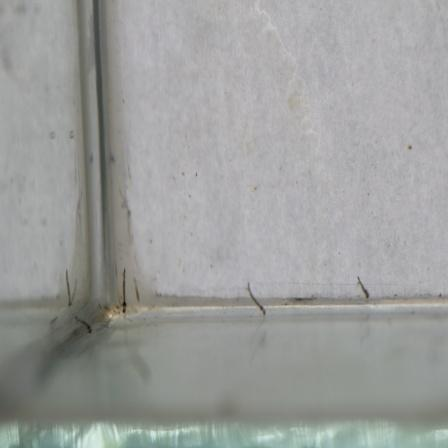Jentik-Nyamuk: (245, 279, 268, 317), (116, 264, 130, 317), (71, 312, 95, 337), (355, 271, 372, 300)
